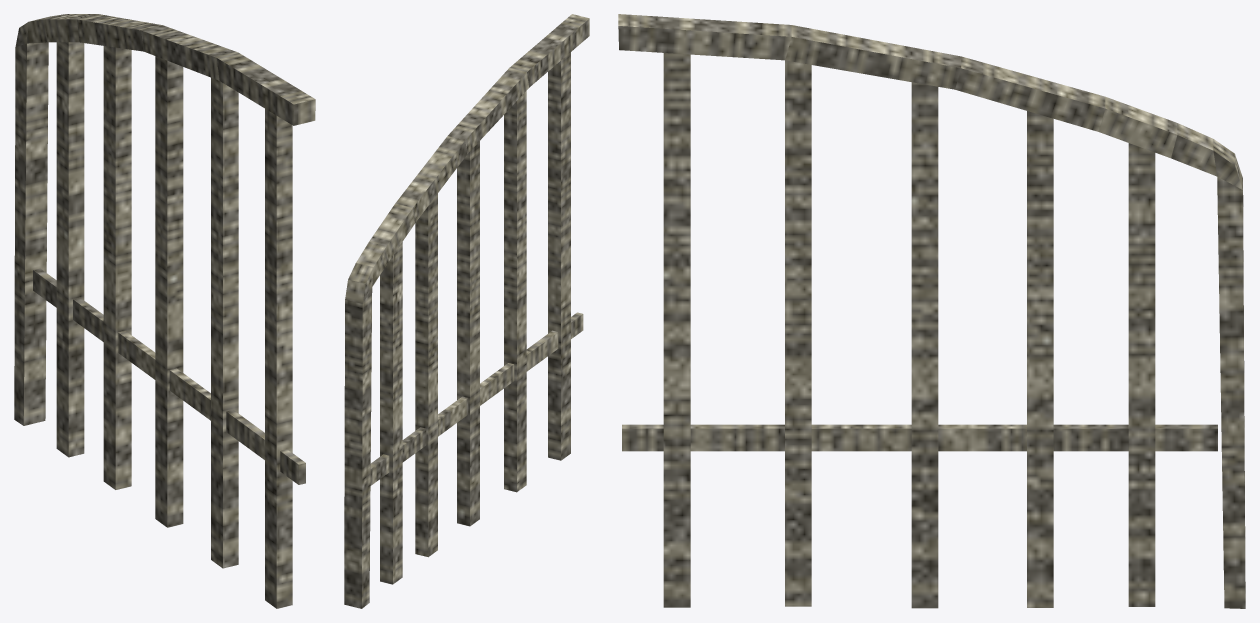
Rendered from Acosta_I_Gate.fbx.
The picture shows the model from 3 angles, left to right: view 1: azimuth 30°, elevation 25°; view 2: azimuth 150°, elevation 25°; view 3: azimuth 270°, elevation 25°; orthographic projection. The views are drawn at different scales.
Parts seen in each view (by area): view 1: Cube; view 2: Cube; view 3: Cube.
Part boxes in pixels (bbox=[...]): Cube: bbox=[14, 14, 315, 608]; Cube: bbox=[344, 14, 589, 608]; Cube: bbox=[618, 14, 1245, 608].
Size of the model in its own units: 42.63 by 975 by 950.
1 material, 1 textured.
